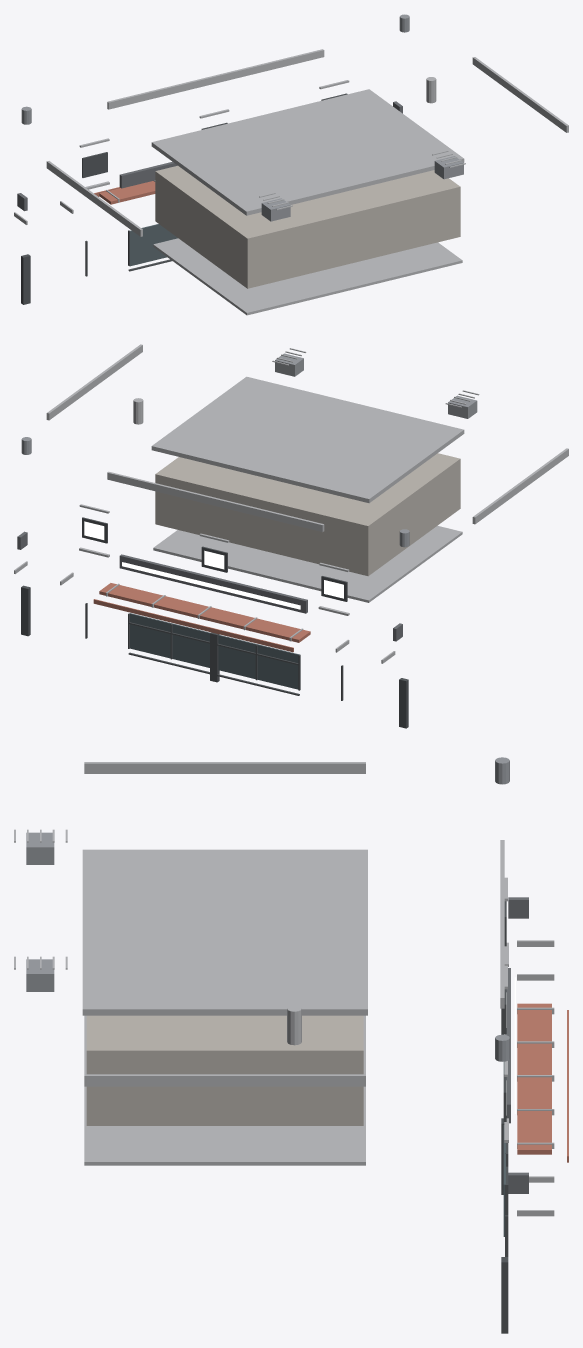
Rendered from shop-low.glb.
3 renders of one model, top to bottom at view 1: azimuth 30°, elevation 25°; view 2: azimuth 150°, elevation 25°; view 3: azimuth 270°, elevation 25°, orthographic. The views are drawn at different scales.
Parts seen in each view (by area): view 1: Building; view 2: Building, WinGlow; view 3: Building.
Boxes of the visible parts, left/top/right/bottom form: Building: left=14, top=14, right=568, bottom=315; Building: left=14, top=344, right=568, bottom=728; WinGlow: left=84, top=521, right=343, bottom=598; Building: left=14, top=757, right=568, bottom=1333.
Bounding box in the file's own units: 16.09 × 7 × 12.01.
